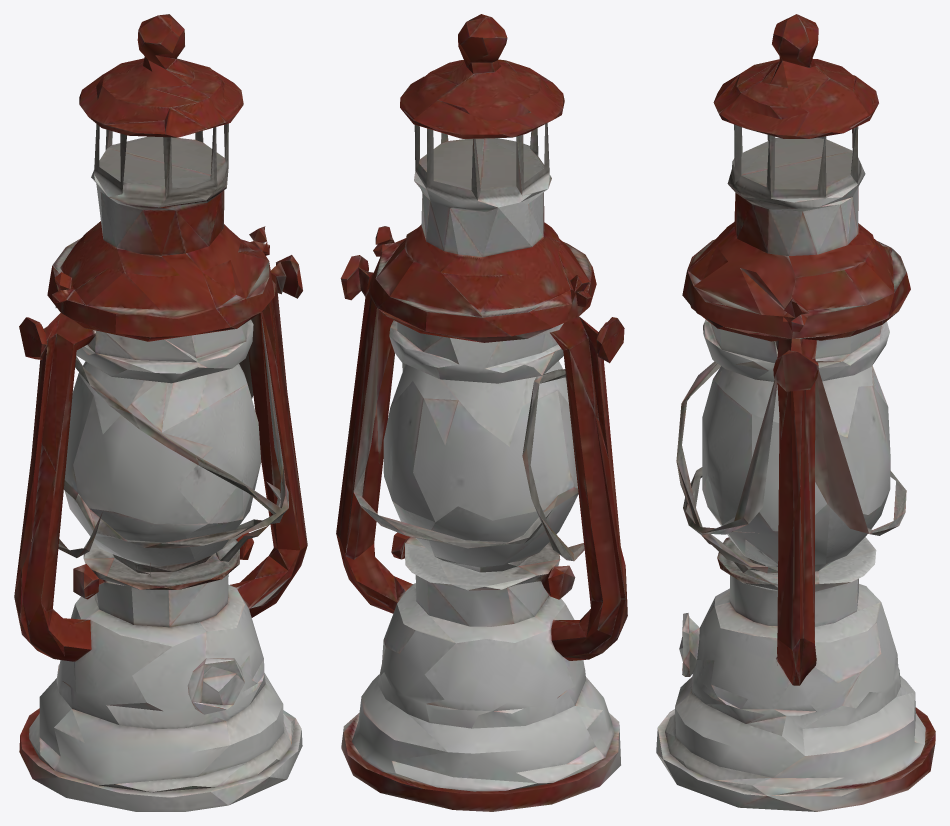
3 views of the same model, side by side, from view 1: azimuth 30°, elevation 25°; view 2: azimuth 150°, elevation 25°; view 3: azimuth 270°, elevation 25° (orthographic).
Size of the model in its own units: 0.4117 by 1 by 0.3432.
Materials: 1 (1 with a texture image).
